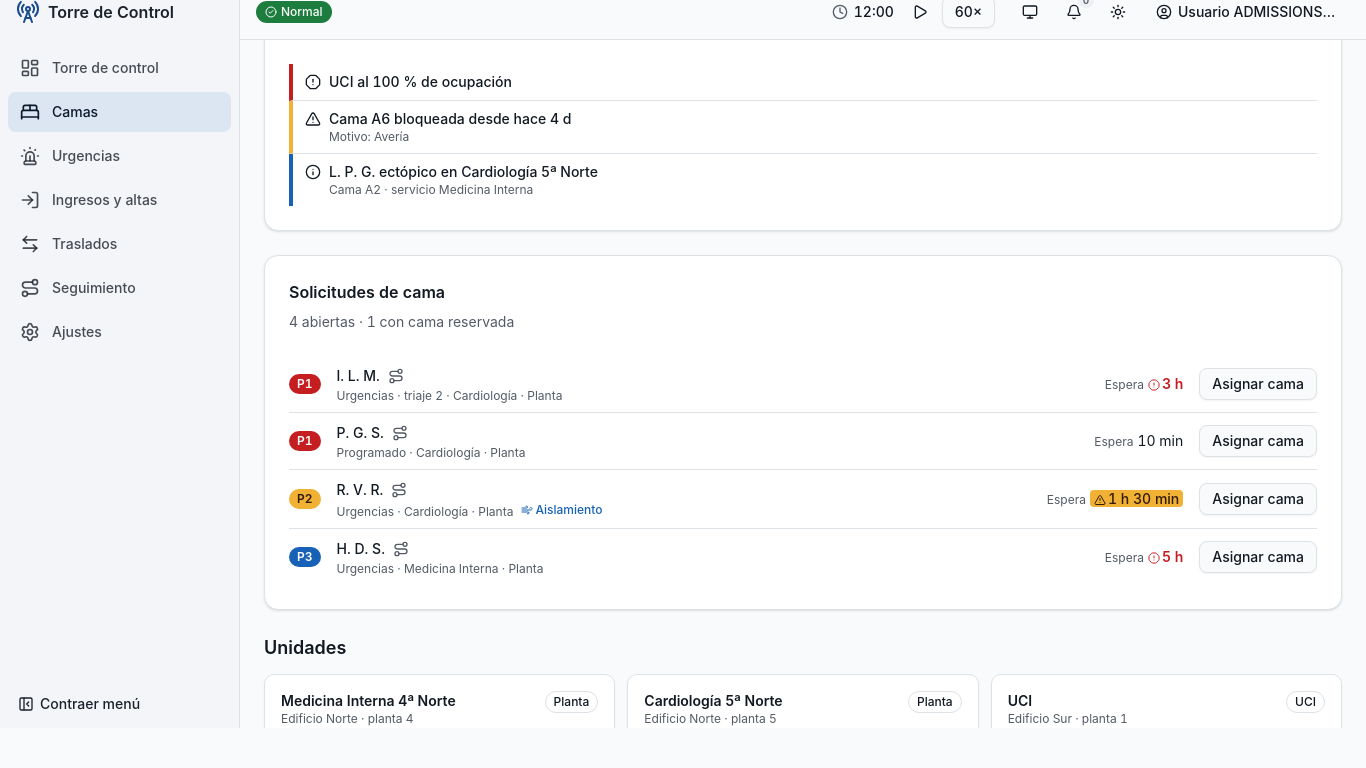
Scenario: assigning a bed › suggests the longest-free same-specialty bed first, outliers last, isolation only when required
(page scrolled)
Expected: the list named "Solicitudes abiertas" is shown, left=289, top=356, right=1317, bottom=585
Click the button "Asignar cama" in the row of "I. L. M.". click: (1258, 384)
box: left=1199, top=368, right=1317, bottom=400
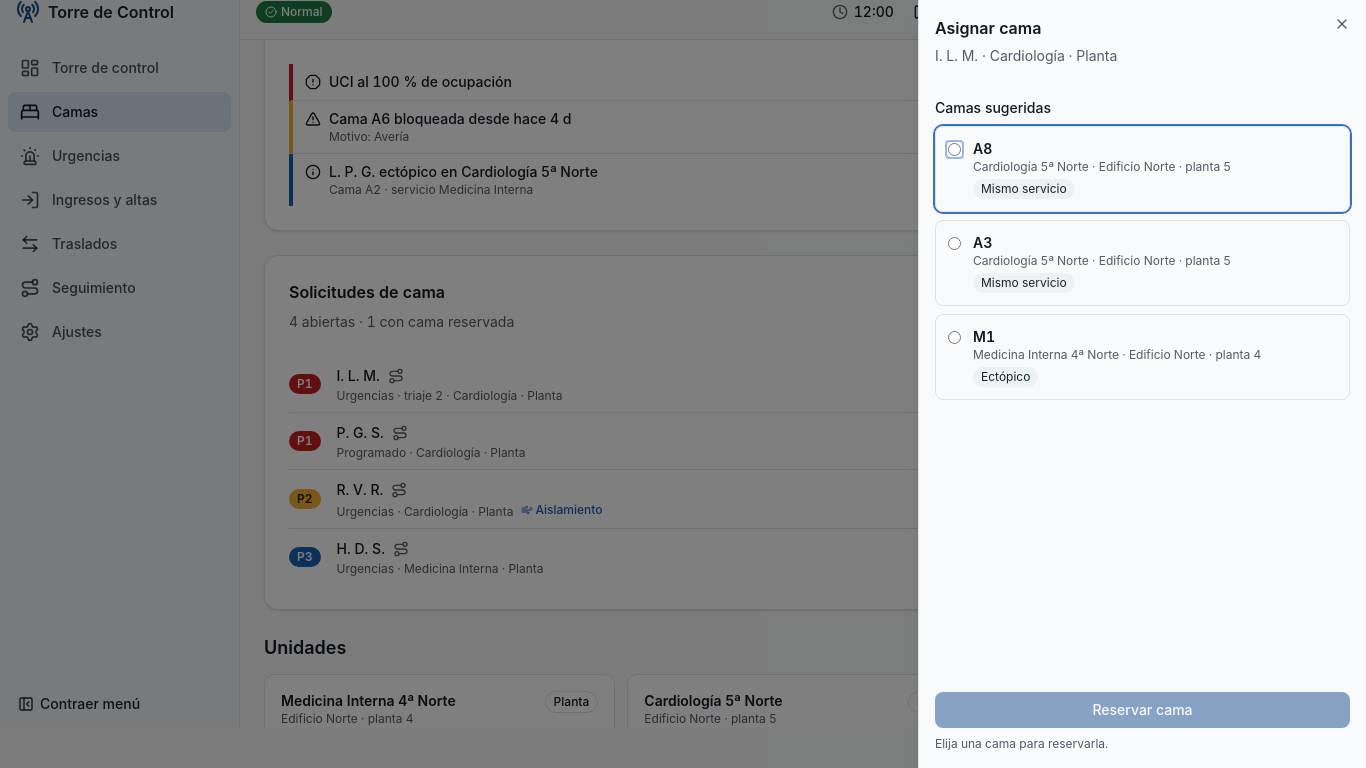
Expected: the text "Ectópico" is shown, left=973, top=367, right=1038, bottom=387
